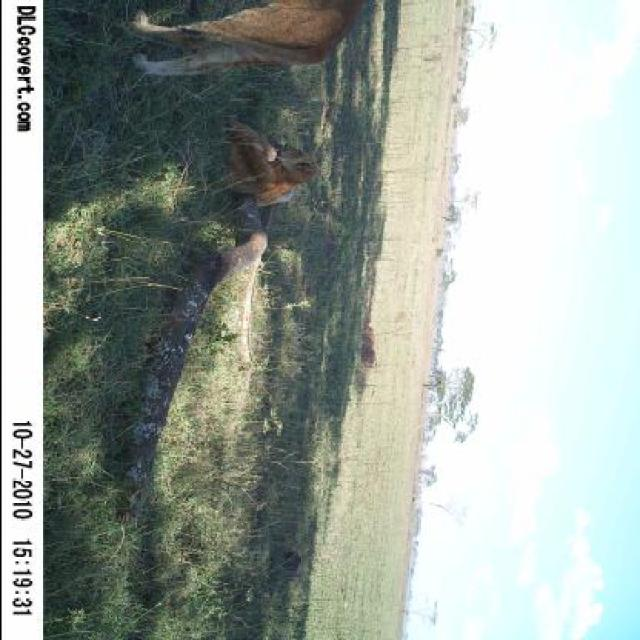Lion: (103, 3, 375, 88), (198, 115, 322, 220)
